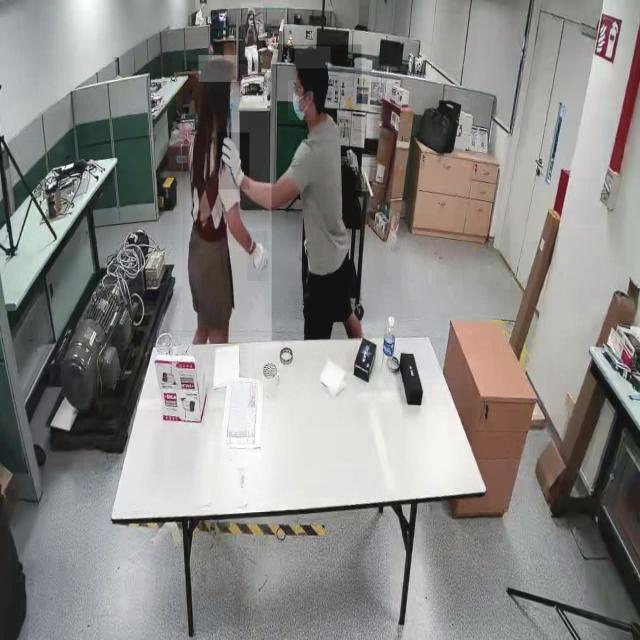face_mask: (288, 80, 315, 120)
hand_glove: (218, 133, 250, 190), (246, 231, 268, 282)
head_nohelmet: (198, 55, 237, 83), (294, 46, 330, 70), (248, 8, 255, 15)
person: (271, 45, 361, 342), (182, 60, 270, 338), (239, 3, 263, 85)
